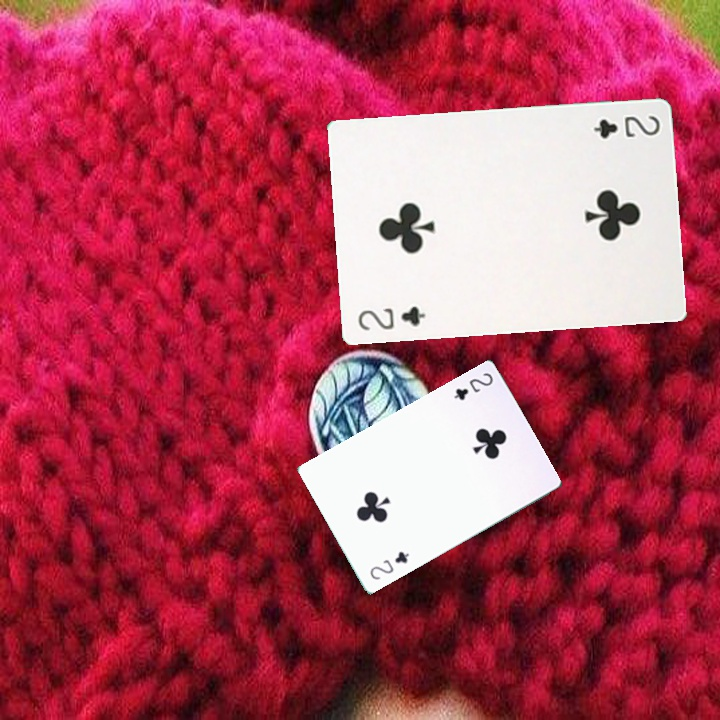2c: (354, 302, 428, 333), (589, 111, 662, 141), (366, 547, 412, 582), (450, 368, 496, 403)
